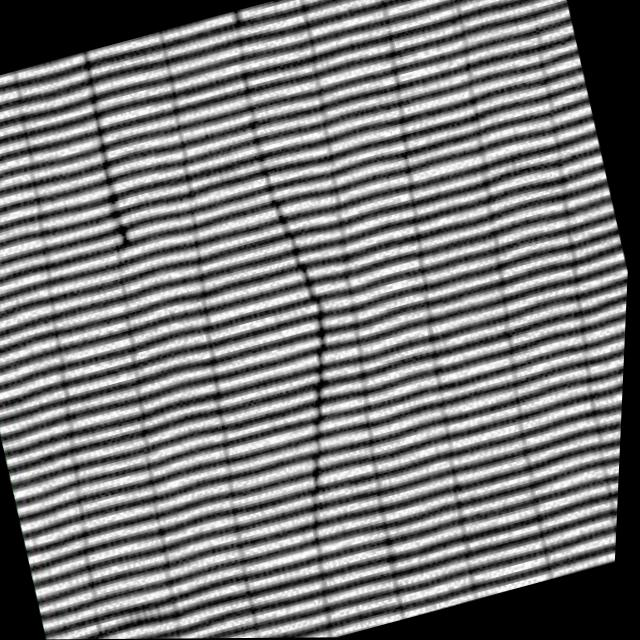Stitch: (212, 192, 410, 562)
